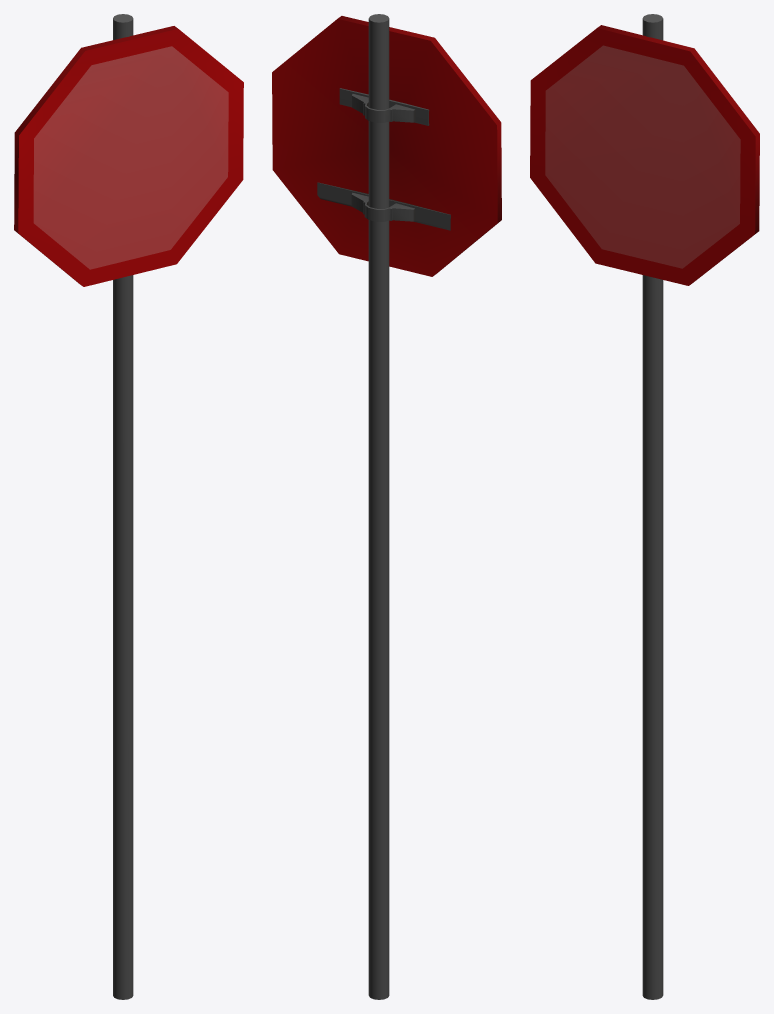
Rendered from HexTrafficSign_Regular.fbx.
3 renders of one model, left to right at view 1: azimuth 30°, elevation 25°; view 2: azimuth 150°, elevation 25°; view 3: azimuth 330°, elevation 25°, orthographic.
Visible parts, largest first — view 1: HexTrafficSign_Regular; view 2: HexTrafficSign_Regular; view 3: HexTrafficSign_Regular.
Boxes of the visible parts, left/top/right/bottom form: HexTrafficSign_Regular: left=14, top=14, right=243, bottom=999; HexTrafficSign_Regular: left=272, top=14, right=501, bottom=999; HexTrafficSign_Regular: left=530, top=14, right=759, bottom=999.
Size of the model in its own units: 60.61 by 251 by 7.12.
